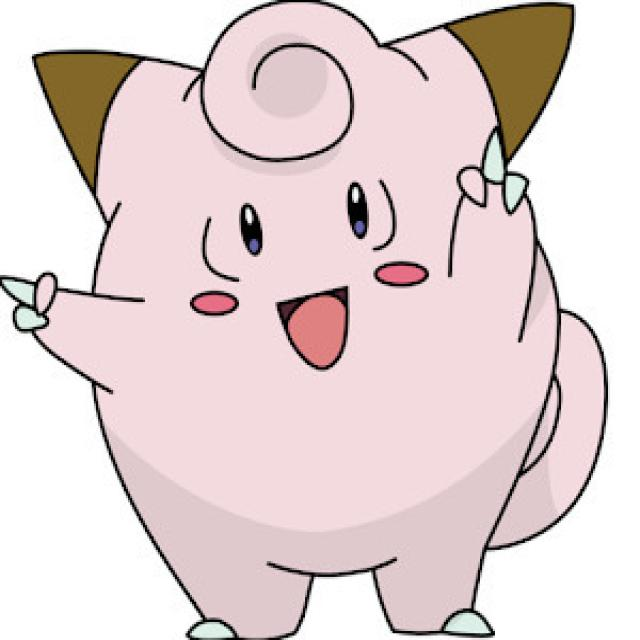Clefairy: (44, 76, 605, 597)
